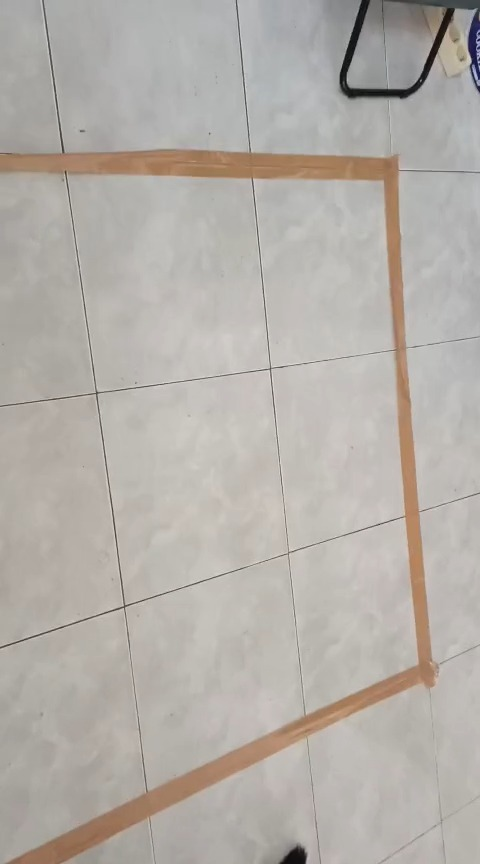floor marking: (0, 150, 437, 863)
